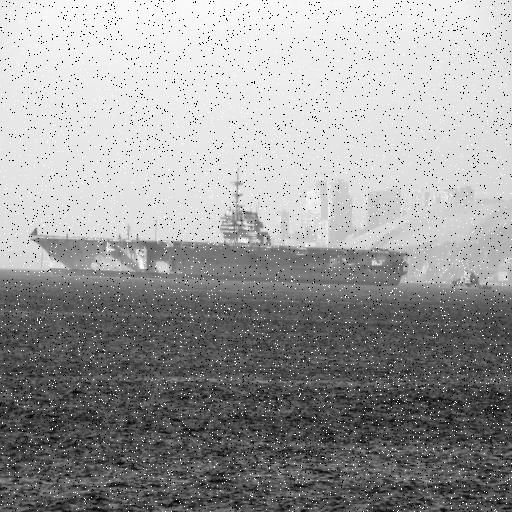Portanaves: (29, 167, 412, 289)
